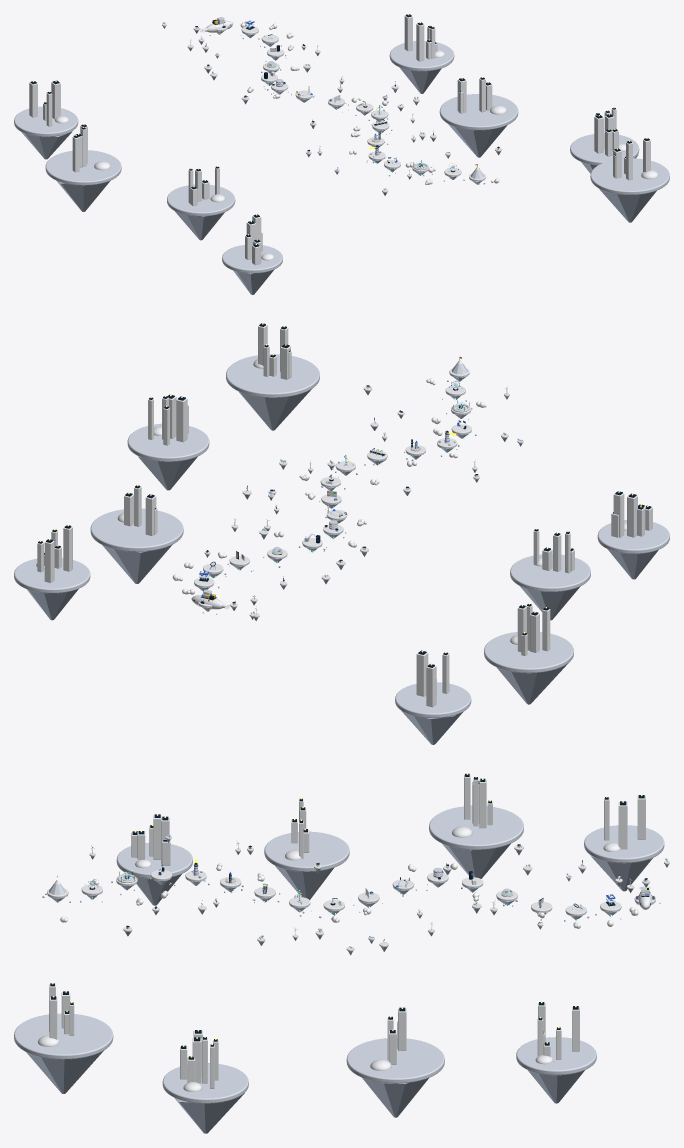
The model's file is archipelago.glb.
The picture shows the model from 3 angles, top to bottom: view 1: azimuth 30°, elevation 25°; view 2: azimuth 150°, elevation 25°; view 3: azimuth 270°, elevation 25°; orthographic projection. The views are drawn at different scales.
Parts seen in each view (by area): view 1: world_far_7, world_far_3, world_far_2, world_far_0, world_far_4, world_far_1, world_far_6, world_far_5; view 2: world_far_7, world_far_2, world_far_3, world_far_5, world_far_4, world_far_0, world_far_1, world_far_6; view 3: world_far_7, world_far_3, world_far_2, world_far_5, world_far_0, world_far_4, world_far_1, world_far_6.
Part boxes in pixels (x1=…): world_far_7: x1=590, y1=138, x2=669, y2=222; world_far_3: x1=439, y1=76, x2=518, y2=157; world_far_2: x1=45, y1=124, x2=121, y2=211; world_far_0: x1=14, y1=80, x2=78, y2=159; world_far_4: x1=167, y1=166, x2=235, y2=240; world_far_1: x1=389, y1=14, x2=454, y2=93; world_far_6: x1=222, y1=214, x2=282, y2=294; world_far_5: x1=570, y1=107, x2=639, y2=173; world_far_7: x1=226, y1=323, x2=319, y2=430; world_far_2: x1=484, y1=603, x2=573, y2=704; world_far_3: x1=90, y1=484, x2=183, y2=583; world_far_5: x1=127, y1=394, x2=209, y2=490; world_far_4: x1=510, y1=528, x2=590, y2=620; world_far_0: x1=395, y1=650, x2=471, y2=744; world_far_1: x1=14, y1=525, x2=90, y2=620; world_far_6: x1=597, y1=491, x2=669, y2=579; world_far_7: x1=14, y1=982, x2=113, y2=1093; world_far_3: x1=346, y1=1007, x2=444, y2=1117; world_far_2: x1=429, y1=773, x2=523, y2=878; world_far_5: x1=162, y1=1029, x2=248, y2=1133; world_far_0: x1=584, y1=794, x2=664, y2=891; world_far_4: x1=264, y1=798, x2=349, y2=899; world_far_1: x1=516, y1=1001, x2=596, y2=1103; world_far_6: x1=116, y1=814, x2=192, y2=905.
Size of the model in its own units: 147 by 37.05 by 140.
